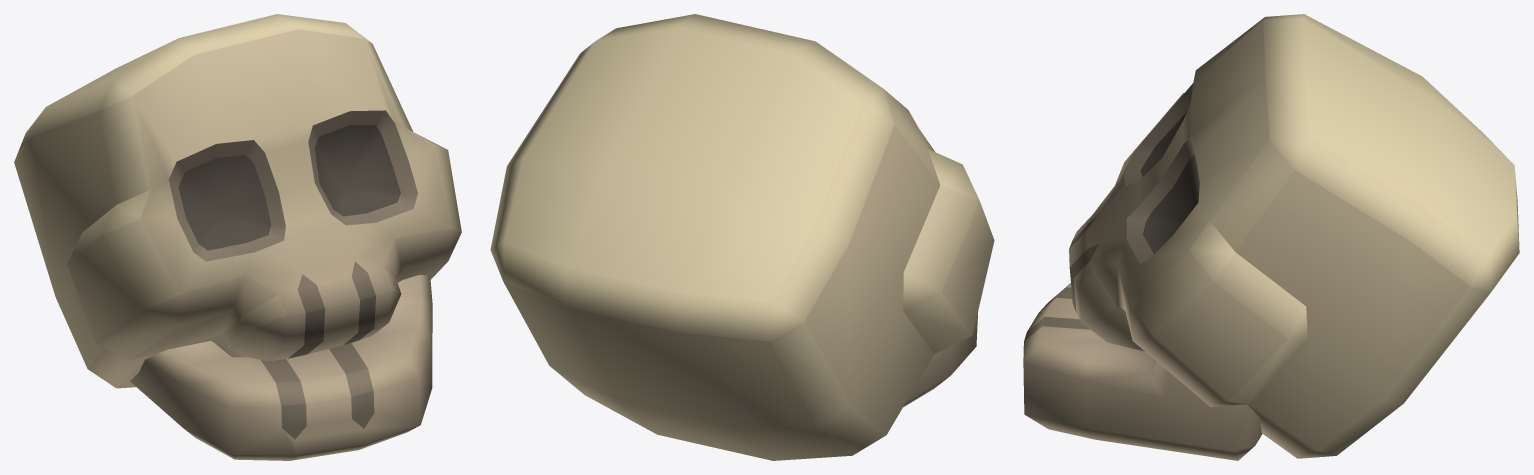
The model's file is deco_skull_2.fbx.
3 views of the same model, side by side, from view 1: azimuth 30°, elevation 25°; view 2: azimuth 150°, elevation 25°; view 3: azimuth 270°, elevation 25° (orthographic). The views are drawn at different scales.
Visible parts, largest first — view 1: deco_skull_2; view 2: deco_skull_2; view 3: deco_skull_2.
Boxes of the visible parts, x1=… form: deco_skull_2: x1=14, y1=14, x2=461, y2=460; deco_skull_2: x1=490, y1=14, x2=994, y2=460; deco_skull_2: x1=1023, y1=14, x2=1519, y2=460.
Bounding box in the file's own units: 49.11 × 46.73 × 56.91.
Materials: 1 (1 with a texture image).
